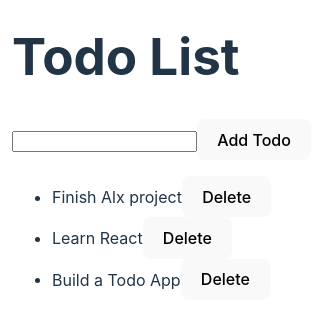
a dds a new todo
Simulate user input and form submission
In the field: (104, 141) [12,131,197,152], type "New Todo"
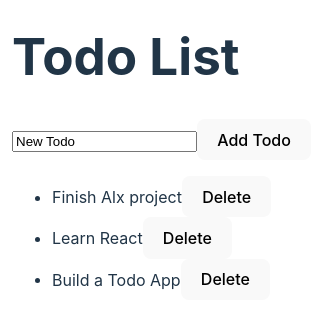
Click the button "Add Todo": (254, 140) [197,119,311,160]
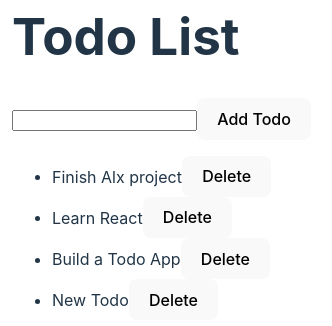
Now the list item "New Todo" is shown, box [52,290,129,310]
